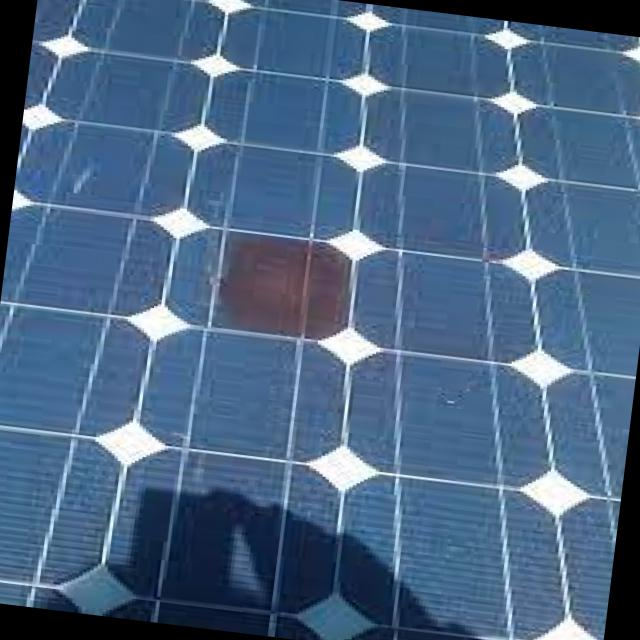faulty: (187, 214, 360, 360)
